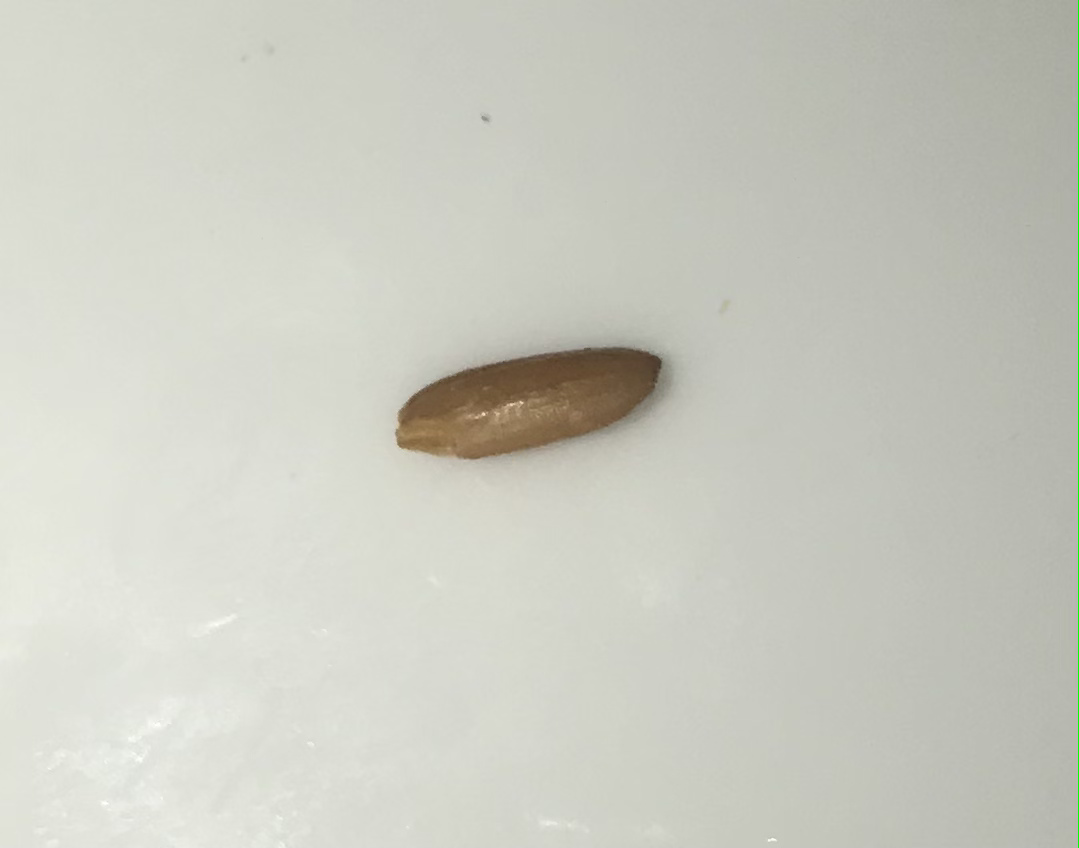Gao Lut Dien Bien: (397, 344, 665, 455)
